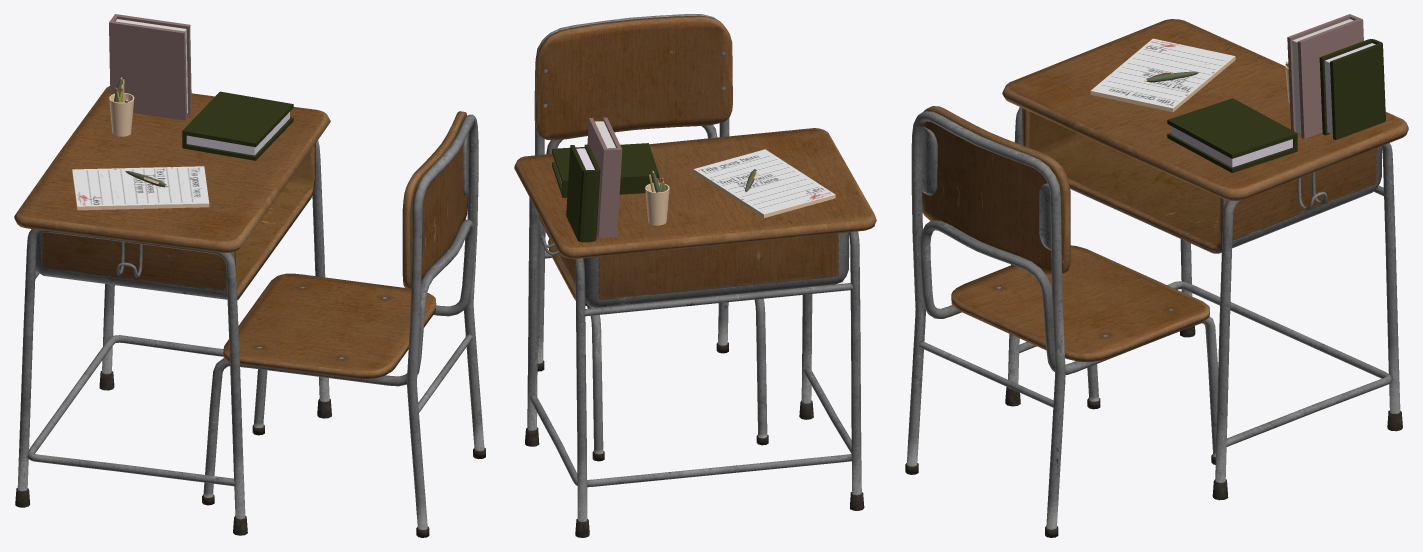
The model's file is school-desk.glb.
3 renders of one model, left to right at view 1: azimuth 30°, elevation 25°; view 2: azimuth 150°, elevation 25°; view 3: azimuth 270°, elevation 25°, orthographic. The views are drawn at different scales.
Parts seen in each view (by area): view 1: DeskWood_L, ChairWood_L, ChairMetal_L, DeskMetal_L, book_3__37_, paper_file_custom__3_, book_3__38_, empty_cup; view 2: DeskWood_L, ChairWood_L, DeskMetal_L, ChairMetal_L, paper_file_custom__3_, book_3__37_, book_1__2_, book_3__38_, empty_cup; view 3: DeskWood_L, ChairWood_L, ChairMetal_L, DeskMetal_L, book_3__38_, paper_file_custom__3_, book_1__2_, book_3__37_.
Part boxes in pixels (box(x1,y1,x2,y2)): DeskWood_L: box(14, 86, 330, 299); ChairWood_L: box(223, 111, 468, 378); ChairMetal_L: box(202, 114, 485, 537); DeskMetal_L: box(15, 140, 331, 535); book_3__37_: box(109, 14, 191, 120); paper_file_custom__3_: box(72, 166, 209, 210); book_3__38_: box(182, 91, 293, 160); empty_cup: box(109, 93, 134, 136); DeskWood_L: box(514, 128, 876, 307); ChairWood_L: box(535, 15, 732, 306); DeskMetal_L: box(525, 197, 864, 537); ChairMetal_L: box(534, 14, 768, 461); paper_file_custom__3_: box(693, 149, 835, 217); book_3__37_: box(587, 117, 622, 238); book_1__2_: box(566, 144, 600, 242); book_3__38_: box(552, 143, 659, 197); empty_cup: box(645, 183, 669, 225); DeskWood_L: box(1002, 19, 1408, 253); ChairWood_L: box(922, 106, 1209, 361); ChairMetal_L: box(905, 111, 1218, 537); DeskMetal_L: box(1005, 107, 1402, 500); book_3__38_: box(1167, 98, 1297, 172); paper_file_custom__3_: box(1090, 38, 1235, 112); book_1__2_: box(1319, 39, 1385, 139); book_3__37_: box(1287, 14, 1363, 138).
Size of the model in its own units: 43.89 by 39.52 by 44.51.
6 materials, 6 textured.
